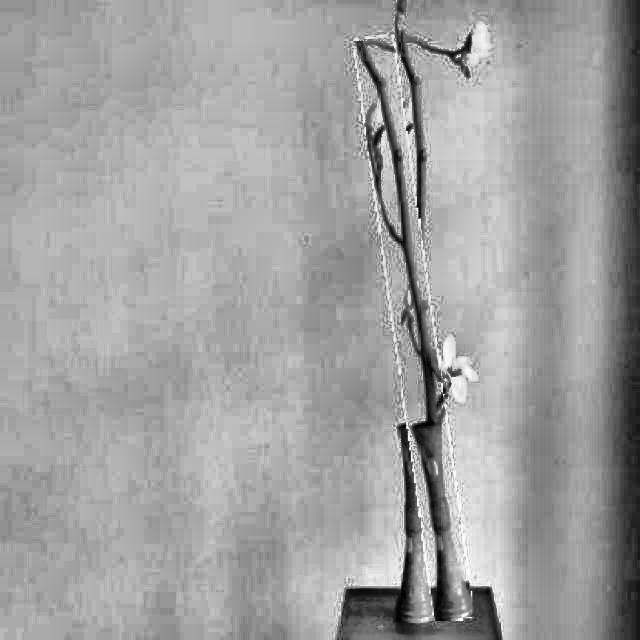plants: (374, 35, 454, 623)
